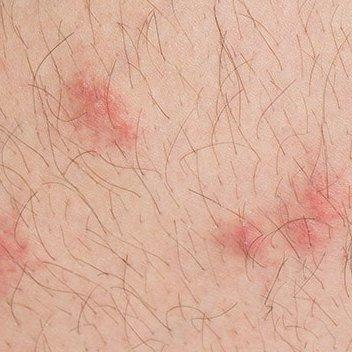Fleas: (52, 73, 149, 152), (286, 176, 345, 251), (0, 214, 30, 298), (219, 216, 267, 260)
